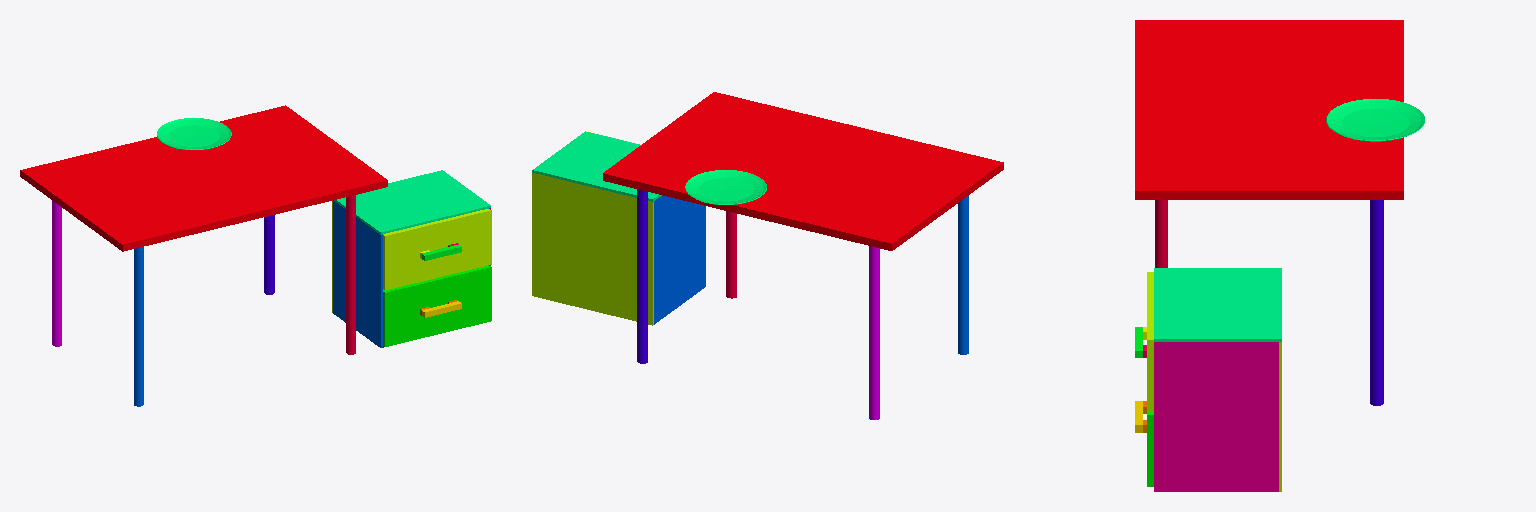
The robot description file, URDF, robot "Scene":
<?xml version='1.0' encoding='ASCII'?>
<robot name="Scene">
  <link name="table">
    <inertial>
      <origin xyz="-1.0040178028644521e-17 -6.693452019096347e-18 0.333375470187997" rpy="0.0 -0.0 0.0"/>
      <mass value="0.0323959048154013"/>
      <inertia ixx="1.0" ixy="0.0" ixz="0.0" iyy="1.0" iyz="0.0" izz="1.0"/>
    </inertial>
    <visual name="table_leg_0">
      <geometry>
        <cylinder radius="0.02" length="0.72"/>
      </geometry>
      <origin xyz="0.48 0.32000000000000006 0.0" rpy="0.0 -0.0 0.0"/>
      <material name="table_leg_0_main_color">
        <color rgba="0.3058823529411765 0.00784313725490196 0.9882352941176471 1.0"/>
      </material>
    </visual>
    <visual name="table_leg_1">
      <geometry>
        <cylinder radius="0.02" length="0.72"/>
      </geometry>
      <origin xyz="0.48 -0.32000000000000006 0.0" rpy="0.0 -0.0 0.0"/>
      <material name="table_leg_1_main_color">
        <color rgba="0.9882352941176471 0.00784313725490196 0.2823529411764706 1.0"/>
      </material>
    </visual>
    <visual name="table_leg_2">
      <geometry>
        <cylinder radius="0.02" length="0.72"/>
      </geometry>
      <origin xyz="-0.48 0.32000000000000006 0.0" rpy="0.0 -0.0 0.0"/>
      <material name="table_leg_2_main_color">
        <color rgba="0.9372549019607843 0.00784313725490196 0.9882352941176471 1.0"/>
      </material>
    </visual>
    <visual name="table_leg_3">
      <geometry>
        <cylinder radius="0.02" length="0.72"/>
      </geometry>
      <origin xyz="-0.48 -0.32000000000000006 0.0" rpy="0.0 -0.0 0.0"/>
      <material name="table_leg_3_main_color">
        <color rgba="0.00784313725490196 0.4666666666666667 0.9882352941176471 1.0"/>
      </material>
    </visual>
    <visual name="table_top">
      <geometry>
        <box size="1.2 0.8 0.03"/>
      </geometry>
      <origin xyz="0.0 0.0 0.375" rpy="0.0 -0.0 0.0"/>
      <material name="table_top_main_color">
        <color rgba="0.9882352941176471 0.00784313725490196 0.07450980392156863 1.0"/>
      </material>
    </visual>
    <collision name="table_leg_0">
      <geometry>
        <cylinder radius="0.02" length="0.72"/>
      </geometry>
      <origin xyz="0.48 0.32000000000000006 0.0" rpy="0.0 -0.0 0.0"/>
    </collision>
    <collision name="table_leg_1">
      <geometry>
        <cylinder radius="0.02" length="0.72"/>
      </geometry>
      <origin xyz="0.48 -0.32000000000000006 0.0" rpy="0.0 -0.0 0.0"/>
    </collision>
    <collision name="table_leg_2">
      <geometry>
        <cylinder radius="0.02" length="0.72"/>
      </geometry>
      <origin xyz="-0.48 0.32000000000000006 0.0" rpy="0.0 -0.0 0.0"/>
    </collision>
    <collision name="table_leg_3">
      <geometry>
        <cylinder radius="0.02" length="0.72"/>
      </geometry>
      <origin xyz="-0.48 -0.32000000000000006 0.0" rpy="0.0 -0.0 0.0"/>
    </collision>
    <collision name="table_top">
      <geometry>
        <box size="1.2 0.8 0.03"/>
      </geometry>
      <origin xyz="0.0 0.0 0.375" rpy="0.0 -0.0 0.0"/>
    </collision>
  </link>
  <link name="cabinet_corpus">
    <inertial>
      <origin xyz="0.0 0.0 0.0" rpy="0.0 -0.0 0.0"/>
      <mass value="0.011528"/>
      <inertia ixx="1.0" ixy="0.0" ixz="0.0" iyy="1.0" iyz="0.0" izz="1.0"/>
    </inertial>
    <visual name="cabinet_back">
      <geometry>
        <box size="0.5 0.01 0.49"/>
      </geometry>
      <origin xyz="0.0 0.195 0.245" rpy="0.0 -0.0 0.0"/>
      <material name="cabinet_back_main_color">
        <color rgba="0.7372549019607844 0.9882352941176471 0.00784313725490196 1.0"/>
      </material>
    </visual>
    <visual name="cabinet_left">
      <geometry>
        <box size="0.01 0.37 0.49"/>
      </geometry>
      <origin xyz="-0.245 0.005 0.245" rpy="0.0 -0.0 0.0"/>
      <material name="cabinet_left_main_color">
        <color rgba="0.00784313725490196 0.4470588235294118 0.9882352941176471 1.0"/>
      </material>
    </visual>
    <visual name="cabinet_right">
      <geometry>
        <box size="0.01 0.37 0.49"/>
      </geometry>
      <origin xyz="0.245 0.005 0.245" rpy="0.0 -0.0 0.0"/>
      <material name="cabinet_right_main_color">
        <color rgba="0.9882352941176471 0.00784313725490196 0.6196078431372549 1.0"/>
      </material>
    </visual>
    <visual name="cabinet_surface_0_0">
      <geometry>
        <box size="0.48 0.37 0.01"/>
      </geometry>
      <origin xyz="0.0 0.005 0.25" rpy="0.0 -0.0 0.0"/>
      <material name="cabinet_surface_0_0_main_color">
        <color rgba="0.00784313725490196 0.9882352941176471 0.45098039215686275 1.0"/>
      </material>
    </visual>
    <visual name="cabinet_surface_0_1">
      <geometry>
        <box size="0.48 0.37 0.01"/>
      </geometry>
      <origin xyz="0.0 0.005 0.005000000000000009" rpy="0.0 -0.0 0.0"/>
      <material name="cabinet_surface_0_1_main_color">
        <color rgba="0.47058823529411764 0.00784313725490196 0.9882352941176471 1.0"/>
      </material>
    </visual>
    <visual name="cabinet_top">
      <geometry>
        <box size="0.5 0.38 0.01"/>
      </geometry>
      <origin xyz="0.0 0.01 0.495" rpy="0.0 -0.0 0.0"/>
      <material name="cabinet_top_main_color">
        <color rgba="0.00784313725490196 0.9882352941176471 0.5764705882352941 1.0"/>
      </material>
    </visual>
    <collision name="cabinet_back">
      <geometry>
        <box size="0.5 0.01 0.49"/>
      </geometry>
      <origin xyz="0.0 0.195 0.245" rpy="0.0 -0.0 0.0"/>
    </collision>
    <collision name="cabinet_left">
      <geometry>
        <box size="0.01 0.37 0.49"/>
      </geometry>
      <origin xyz="-0.245 0.005 0.245" rpy="0.0 -0.0 0.0"/>
    </collision>
    <collision name="cabinet_right">
      <geometry>
        <box size="0.01 0.37 0.49"/>
      </geometry>
      <origin xyz="0.245 0.005 0.245" rpy="0.0 -0.0 0.0"/>
    </collision>
    <collision name="cabinet_surface_0_0">
      <geometry>
        <box size="0.48 0.37 0.01"/>
      </geometry>
      <origin xyz="0.0 0.005 0.25" rpy="0.0 -0.0 0.0"/>
    </collision>
    <collision name="cabinet_surface_0_1">
      <geometry>
        <box size="0.48 0.37 0.01"/>
      </geometry>
      <origin xyz="0.0 0.005 0.005000000000000009" rpy="0.0 -0.0 0.0"/>
    </collision>
    <collision name="cabinet_top">
      <geometry>
        <box size="0.5 0.38 0.01"/>
      </geometry>
      <origin xyz="0.0 0.01 0.495" rpy="0.0 -0.0 0.0"/>
    </collision>
  </link>
  <link name="cabinet_drawer_0_0">
    <inertial>
      <origin xyz="0.0 0.0 0.0" rpy="0.0 -0.0 0.0"/>
      <mass value="0.1"/>
      <inertia ixx="1.0" ixy="0.0" ixz="0.0" iyy="1.0" iyz="0.0" izz="1.0"/>
    </inertial>
    <visual name="cabinet_drawer_0_0_board_0">
      <geometry>
        <box size="0.48 0.02 0.235"/>
      </geometry>
      <origin xyz="0.0 0.0 0.0" rpy="0.0 -0.0 0.0"/>
      <material name="cabinet_drawer_0_0_board_0_main_color">
        <color rgba="0.7568627450980392 0.9882352941176471 0.00784313725490196 1.0"/>
      </material>
    </visual>
    <visual name="cabinet_drawer_0_0_board_1">
      <geometry>
        <box size="0.45999999999999996 0.326 0.005"/>
      </geometry>
      <origin xyz="0.0 0.17300000000000001 -0.10999999999999999" rpy="0.0 -0.0 0.0"/>
      <material name="cabinet_drawer_0_0_board_1_main_color">
        <color rgba="0.36470588235294116 0.9882352941176471 0.00784313725490196 1.0"/>
      </material>
    </visual>
    <visual name="cabinet_drawer_0_0_board_2">
      <geometry>
        <box size="0.005 0.326 0.22499999999999998"/>
      </geometry>
      <origin xyz="-0.23249999999999998 0.17300000000000001 0.0" rpy="0.0 -0.0 0.0"/>
      <material name="cabinet_drawer_0_0_board_2_main_color">
        <color rgba="0.1843137254901961 0.9882352941176471 0.00784313725490196 1.0"/>
      </material>
    </visual>
    <visual name="cabinet_drawer_0_0_board_3">
      <geometry>
        <box size="0.005 0.326 0.22499999999999998"/>
      </geometry>
      <origin xyz="0.23249999999999998 0.17300000000000001 0.0" rpy="0.0 -0.0 0.0"/>
      <material name="cabinet_drawer_0_0_board_3_main_color">
        <color rgba="0.00784313725490196 0.3568627450980392 0.9882352941176471 1.0"/>
      </material>
    </visual>
    <visual name="cabinet_drawer_0_0_board_4">
      <geometry>
        <box size="0.47 0.005 0.22499999999999998"/>
      </geometry>
      <origin xyz="0.0 0.3385 0.0" rpy="0.0 -0.0 0.0"/>
      <material name="cabinet_drawer_0_0_board_4_main_color">
        <color rgba="0.00784313725490196 0.9882352941176471 0.6313725490196078 1.0"/>
      </material>
    </visual>
    <visual name="cabinet_drawer_0_0_handle_part_0">
      <geometry>
        <box size="0.024 0.1682 0.024"/>
      </geometry>
      <origin xyz="-9.748438587302075e-35 -0.036 1.5920408388915591e-18" rpy="3.141592653589793 6.123233995736766e-17 1.5707963267948966"/>
      <material name="cabinet_drawer_0_0_handle_part_0_main_color">
        <color rgba="0.00784313725490196 0.9882352941176471 0.17647058823529413 1.0"/>
      </material>
    </visual>
    <visual name="cabinet_drawer_0_0_handle_part_1">
      <geometry>
        <box size="0.013999999999999999 0.04 0.024"/>
      </geometry>
      <origin xyz="-0.06409999999999999 -0.017 -7.421359602832959e-18" rpy="3.141592653589793 6.123233995736766e-17 1.5707963267948966"/>
      <material name="cabinet_drawer_0_0_handle_part_1_main_color">
        <color rgba="0.9686274509803922 0.9882352941176471 0.00784313725490196 1.0"/>
      </material>
    </visual>
    <visual name="cabinet_drawer_0_0_handle_part_2">
      <geometry>
        <box size="0.013999999999999999 0.04 0.024"/>
      </geometry>
      <origin xyz="0.06409999999999999 -0.017 8.278612362236106e-18" rpy="3.141592653589793 6.123233995736766e-17 1.5707963267948966"/>
      <material name="cabinet_drawer_0_0_handle_part_2_main_color">
        <color rgba="0.9882352941176471 0.00784313725490196 0.3607843137254902 1.0"/>
      </material>
    </visual>
    <collision name="cabinet_drawer_0_0_board_0">
      <geometry>
        <box size="0.48 0.02 0.235"/>
      </geometry>
      <origin xyz="0.0 0.0 0.0" rpy="0.0 -0.0 0.0"/>
    </collision>
    <collision name="cabinet_drawer_0_0_board_1">
      <geometry>
        <box size="0.45999999999999996 0.326 0.005"/>
      </geometry>
      <origin xyz="0.0 0.17300000000000001 -0.10999999999999999" rpy="0.0 -0.0 0.0"/>
    </collision>
    <collision name="cabinet_drawer_0_0_board_2">
      <geometry>
        <box size="0.005 0.326 0.22499999999999998"/>
      </geometry>
      <origin xyz="-0.23249999999999998 0.17300000000000001 0.0" rpy="0.0 -0.0 0.0"/>
    </collision>
    <collision name="cabinet_drawer_0_0_board_3">
      <geometry>
        <box size="0.005 0.326 0.22499999999999998"/>
      </geometry>
      <origin xyz="0.23249999999999998 0.17300000000000001 0.0" rpy="0.0 -0.0 0.0"/>
    </collision>
    <collision name="cabinet_drawer_0_0_board_4">
      <geometry>
        <box size="0.47 0.005 0.22499999999999998"/>
      </geometry>
      <origin xyz="0.0 0.3385 0.0" rpy="0.0 -0.0 0.0"/>
    </collision>
    <collision name="cabinet_drawer_0_0_handle_part_0">
      <geometry>
        <box size="0.024 0.1682 0.024"/>
      </geometry>
      <origin xyz="-9.748438587302075e-35 -0.036 1.5920408388915591e-18" rpy="3.141592653589793 6.123233995736766e-17 1.5707963267948966"/>
    </collision>
    <collision name="cabinet_drawer_0_0_handle_part_1">
      <geometry>
        <box size="0.013999999999999999 0.04 0.024"/>
      </geometry>
      <origin xyz="-0.06409999999999999 -0.017 -7.421359602832959e-18" rpy="3.141592653589793 6.123233995736766e-17 1.5707963267948966"/>
    </collision>
    <collision name="cabinet_drawer_0_0_handle_part_2">
      <geometry>
        <box size="0.013999999999999999 0.04 0.024"/>
      </geometry>
      <origin xyz="0.06409999999999999 -0.017 8.278612362236106e-18" rpy="3.141592653589793 6.123233995736766e-17 1.5707963267948966"/>
    </collision>
  </link>
  <link name="cabinet_drawer_0_1">
    <inertial>
      <origin xyz="0.0 0.0 0.0" rpy="0.0 -0.0 0.0"/>
      <mass value="0.1"/>
      <inertia ixx="1.0" ixy="0.0" ixz="0.0" iyy="1.0" iyz="0.0" izz="1.0"/>
    </inertial>
    <visual name="cabinet_drawer_0_1_board_0">
      <geometry>
        <box size="0.48 0.02 0.235"/>
      </geometry>
      <origin xyz="0.0 0.0 0.0" rpy="0.0 -0.0 0.0"/>
      <material name="cabinet_drawer_0_1_board_0_main_color">
        <color rgba="0.00784313725490196 0.9882352941176471 0.011764705882352941 1.0"/>
      </material>
    </visual>
    <visual name="cabinet_drawer_0_1_board_1">
      <geometry>
        <box size="0.45999999999999996 0.326 0.005"/>
      </geometry>
      <origin xyz="0.0 0.17300000000000001 -0.10999999999999999" rpy="0.0 -0.0 0.0"/>
      <material name="cabinet_drawer_0_1_board_1_main_color">
        <color rgba="0.5686274509803921 0.9882352941176471 0.00784313725490196 1.0"/>
      </material>
    </visual>
    <visual name="cabinet_drawer_0_1_board_2">
      <geometry>
        <box size="0.005 0.326 0.22499999999999998"/>
      </geometry>
      <origin xyz="-0.23249999999999998 0.17300000000000001 0.0" rpy="0.0 -0.0 0.0"/>
      <material name="cabinet_drawer_0_1_board_2_main_color">
        <color rgba="0.00784313725490196 0.5647058823529412 0.9882352941176471 1.0"/>
      </material>
    </visual>
    <visual name="cabinet_drawer_0_1_board_3">
      <geometry>
        <box size="0.005 0.326 0.22499999999999998"/>
      </geometry>
      <origin xyz="0.23249999999999998 0.17300000000000001 0.0" rpy="0.0 -0.0 0.0"/>
      <material name="cabinet_drawer_0_1_board_3_main_color">
        <color rgba="0.9882352941176471 0.00784313725490196 0.4745098039215686 1.0"/>
      </material>
    </visual>
    <visual name="cabinet_drawer_0_1_board_4">
      <geometry>
        <box size="0.47 0.005 0.22499999999999998"/>
      </geometry>
      <origin xyz="0.0 0.3385 0.0" rpy="0.0 -0.0 0.0"/>
      <material name="cabinet_drawer_0_1_board_4_main_color">
        <color rgba="0.9882352941176471 0.00784313725490196 0.38823529411764707 1.0"/>
      </material>
    </visual>
    <visual name="cabinet_drawer_0_1_handle_part_0">
      <geometry>
        <box size="0.024 0.1682 0.024"/>
      </geometry>
      <origin xyz="-9.748438587302075e-35 -0.036 1.5920408388915591e-18" rpy="3.141592653589793 6.123233995736766e-17 1.5707963267948966"/>
      <material name="cabinet_drawer_0_1_handle_part_0_main_color">
        <color rgba="0.9882352941176471 0.8588235294117647 0.00784313725490196 1.0"/>
      </material>
    </visual>
    <visual name="cabinet_drawer_0_1_handle_part_1">
      <geometry>
        <box size="0.013999999999999999 0.04 0.024"/>
      </geometry>
      <origin xyz="-0.06409999999999999 -0.017 -7.421359602832959e-18" rpy="3.141592653589793 6.123233995736766e-17 1.5707963267948966"/>
      <material name="cabinet_drawer_0_1_handle_part_1_main_color">
        <color rgba="0.9882352941176471 0.5254901960784314 0.00784313725490196 1.0"/>
      </material>
    </visual>
    <visual name="cabinet_drawer_0_1_handle_part_2">
      <geometry>
        <box size="0.013999999999999999 0.04 0.024"/>
      </geometry>
      <origin xyz="0.06409999999999999 -0.017 8.278612362236106e-18" rpy="3.141592653589793 6.123233995736766e-17 1.5707963267948966"/>
      <material name="cabinet_drawer_0_1_handle_part_2_main_color">
        <color rgba="0.9882352941176471 0.5098039215686274 0.00784313725490196 1.0"/>
      </material>
    </visual>
    <collision name="cabinet_drawer_0_1_board_0">
      <geometry>
        <box size="0.48 0.02 0.235"/>
      </geometry>
      <origin xyz="0.0 0.0 0.0" rpy="0.0 -0.0 0.0"/>
    </collision>
    <collision name="cabinet_drawer_0_1_board_1">
      <geometry>
        <box size="0.45999999999999996 0.326 0.005"/>
      </geometry>
      <origin xyz="0.0 0.17300000000000001 -0.10999999999999999" rpy="0.0 -0.0 0.0"/>
    </collision>
    <collision name="cabinet_drawer_0_1_board_2">
      <geometry>
        <box size="0.005 0.326 0.22499999999999998"/>
      </geometry>
      <origin xyz="-0.23249999999999998 0.17300000000000001 0.0" rpy="0.0 -0.0 0.0"/>
    </collision>
    <collision name="cabinet_drawer_0_1_board_3">
      <geometry>
        <box size="0.005 0.326 0.22499999999999998"/>
      </geometry>
      <origin xyz="0.23249999999999998 0.17300000000000001 0.0" rpy="0.0 -0.0 0.0"/>
    </collision>
    <collision name="cabinet_drawer_0_1_board_4">
      <geometry>
        <box size="0.47 0.005 0.22499999999999998"/>
      </geometry>
      <origin xyz="0.0 0.3385 0.0" rpy="0.0 -0.0 0.0"/>
    </collision>
    <collision name="cabinet_drawer_0_1_handle_part_0">
      <geometry>
        <box size="0.024 0.1682 0.024"/>
      </geometry>
      <origin xyz="-9.748438587302075e-35 -0.036 1.5920408388915591e-18" rpy="3.141592653589793 6.123233995736766e-17 1.5707963267948966"/>
    </collision>
    <collision name="cabinet_drawer_0_1_handle_part_1">
      <geometry>
        <box size="0.013999999999999999 0.04 0.024"/>
      </geometry>
      <origin xyz="-0.06409999999999999 -0.017 -7.421359602832959e-18" rpy="3.141592653589793 6.123233995736766e-17 1.5707963267948966"/>
    </collision>
    <collision name="cabinet_drawer_0_1_handle_part_2">
      <geometry>
        <box size="0.013999999999999999 0.04 0.024"/>
      </geometry>
      <origin xyz="0.06409999999999999 -0.017 8.278612362236106e-18" rpy="3.141592653589793 6.123233995736766e-17 1.5707963267948966"/>
    </collision>
  </link>
  <link name="chair.obj">
    <inertial>
      <origin xyz="-0.06681497121180885 -0.003705758106870265 -0.24775203672720017" rpy="0.0 -0.0 0.0"/>
      <mass value="0.12060617679220981"/>
      <inertia ixx="1.0" ixy="0.0" ixz="0.0" iyy="1.0" iyz="0.0" izz="1.0"/>
    </inertial>
    <visual name="chair.obj_chair.obj">
      <geometry>
        <mesh filename="textures/chair.obj" scale="1.0000000000000004 1.0000000000000004 1.0000000000000004"/>
      </geometry>
      <origin xyz="0.0 0.0 0.0" rpy="0.0 -0.0 -1.5707963267948966"/>
      <material name="chair.obj_chair.obj_main_color">
        <color rgba="0.9882352941176471 0.5686274509803921 0.00784313725490196 1.0"/>
      </material>
    </visual>
    <collision name="chair.obj_chair.obj">
      <geometry>
        <mesh filename="textures/chair.obj" scale="1.0000000000000004 1.0000000000000004 1.0000000000000004"/>
      </geometry>
      <origin xyz="0.0 0.0 0.0" rpy="0.0 -0.0 -1.5707963267948966"/>
    </collision>
  </link>
  <link name="plate">
    <inertial>
      <origin xyz="5.263913116981696e-18 7.01855082264226e-18 0.007200117935468516" rpy="0.0 -0.0 0.0"/>
      <mass value="0.00032182634037849974"/>
      <inertia ixx="1.0" ixy="0.0" ixz="0.0" iyy="1.0" iyz="0.0" izz="1.0"/>
    </inertial>
    <visual name="plate_geometry_0">
      <geometry>
        <mesh filename="plate_geometry_0.obj"/>
      </geometry>
      <origin xyz="0.0 0.0 0.0" rpy="0.0 -0.0 0.0"/>
      <material name="plate_geometry_0_main_color">
        <color rgba="0.00784313725490196 0.9882352941176471 0.5019607843137255 1.0"/>
      </material>
    </visual>
    <collision name="plate_geometry_0">
      <geometry>
        <mesh filename="plate_geometry_0.obj"/>
      </geometry>
      <origin xyz="0.0 0.0 0.0" rpy="0.0 -0.0 0.0"/>
    </collision>
  </link>
  <link name="milk_0">
    <inertial>
      <origin xyz="0.00735915059386354 1.1541878484295157e-08 -0.31448500768989784" rpy="0.0 -0.0 0.0"/>
      <mass value="64.23169239014533"/>
      <inertia ixx="1.0" ixy="0.0" ixz="0.0" iyy="1.0" iyz="0.0" izz="1.0"/>
    </inertial>
    <visual name="milk_0_MilkCarton_MilkCartn_0">
      <geometry>
        <mesh filename="textures/milk_carton.glb" scale="0.0006451599844062326 0.0006451599844062326 0.0006451599844062326"/>
      </geometry>
      <origin xyz="-2.5757175084511028e-17 0.0 0.11600000411272049" rpy="4.440892098500626e-16 -0.0 -1.5707963267948966"/>
      <material name="milk_0_MilkCarton_MilkCartn_0_main_color">
        <color rgba="0.9882352941176471 0.5764705882352941 0.00784313725490196 1.0"/>
      </material>
    </visual>
    <collision name="milk_0_MilkCarton_MilkCartn_0">
      <geometry>
        <mesh filename="textures/milk_carton.glb" scale="0.0006451599844062326 0.0006451599844062326 0.0006451599844062326"/>
      </geometry>
      <origin xyz="-2.5757175084511028e-17 0.0 0.11600000411272049" rpy="4.440892098500626e-16 -0.0 -1.5707963267948966"/>
    </collision>
  </link>
  <link name="world"/>
  <link name="cabinet"/>
  <joint name="table_world_fixed_joint" type="fixed">
    <parent link="world"/>
    <child link="table"/>
    <origin xyz="0.0 0.0 0.0" rpy="0.0 -0.0 0.0"/>
  </joint>
  <joint name="cabinet_world_fixed_joint" type="fixed">
    <parent link="world"/>
    <child link="cabinet"/>
    <origin xyz="0.85 -0.162 -0.36" rpy="0.0 -0.0 0.0"/>
  </joint>
  <joint name="cabinet_corpus_to_drawer_0_0" type="prismatic">
    <parent link="cabinet_corpus"/>
    <child link="cabinet_drawer_0_0"/>
    <origin xyz="0.0 -0.19 0.3725" rpy="0.0 -0.0 0.0"/>
    <axis xyz="0 -1 0"/>
    <limit effort="1000.0" velocity="1.0" lower="0.0" upper="0.3159"/>
  </joint>
  <joint name="cabinet_corpus_to_drawer_0_1" type="prismatic">
    <parent link="cabinet_corpus"/>
    <child link="cabinet_drawer_0_1"/>
    <origin xyz="0.0 -0.19 0.1275" rpy="0.0 -0.0 0.0"/>
    <axis xyz="0 -1 0"/>
    <limit effort="1000.0" velocity="1.0" lower="0.0" upper="0.3159"/>
  </joint>
  <joint name="cabinet_origin_joint" type="fixed">
    <parent link="cabinet"/>
    <child link="cabinet_corpus"/>
    <origin xyz="0.0 0.0 0.0" rpy="0.0 -0.0 0.0"/>
  </joint>
  <joint name="chair.obj_world_fixed_joint" type="fixed">
    <parent link="world"/>
    <child link="chair.obj"/>
    <origin xyz="0.002477000000000007 -0.49283750000000004 0.271111" rpy="0.0 -0.0 0.0"/>
  </joint>
  <joint name="plate_table_top_floating_joint" type="fixed">
    <parent link="world"/>
    <child link="plate"/>
    <origin xyz="0.13702243500520228 0.3158211250819608 0.391" rpy="0.0 -0.0 2.887963724899496"/>
  </joint>
  <joint name="milk_0_table_top_floating_joint" type="fixed">
    <parent link="world"/>
    <child link="milk_0"/>
    <origin xyz="-0.07435505479543358 -0.32039121215910504 0.391" rpy="0.0 -0.0 1.022983296798402"/>
  </joint>
</robot>

--- What the picture shows (computed from the rendered views, not written in the file) ---
3 views of the same robot in one strip: view 1: azimuth 30°, elevation 25°; view 2: azimuth 150°, elevation 25°; view 3: azimuth 270°, elevation 25° (orthographic).
Model Scene with 9 links and 8 joints (2 prismatic, 6 fixed), rooted at world, posed every joint at zero.
Links seen in each view (by area): view 1: table, cabinet_corpus, cabinet_drawer_0_0, cabinet_drawer_0_1, plate; view 2: table, cabinet_corpus, plate; view 3: table, cabinet_corpus, plate, cabinet_drawer_0_0, cabinet_drawer_0_1.
Boxes of the visible links, x1=… form: table: x1=20, y1=105, x2=387, y2=406; cabinet_corpus: x1=332, y1=170, x2=490, y2=347; cabinet_drawer_0_0: x1=383, y1=209, x2=491, y2=290; cabinet_drawer_0_1: x1=383, y1=265, x2=491, y2=346; plate: x1=157, y1=118, x2=231, y2=149; table: x1=603, y1=92, x2=1003, y2=419; cabinet_corpus: x1=532, y1=131, x2=705, y2=325; plate: x1=685, y1=170, x2=766, y2=204; table: x1=1135, y1=20, x2=1403, y2=405; cabinet_corpus: x1=1154, y1=268, x2=1281, y2=491; plate: x1=1326, y1=99, x2=1424, y2=141; cabinet_drawer_0_0: x1=1135, y1=272, x2=1153, y2=411; cabinet_drawer_0_1: x1=1135, y1=401, x2=1153, y2=486.
Bounding box of the posed robot: 1.7 × 0.8635 × 0.7695 m (x, y, z).
1 mesh visuals loaded from 3 distinct referenced files (1 OBJ); not drawn: 2 (reference not matched to a file when rendering).
